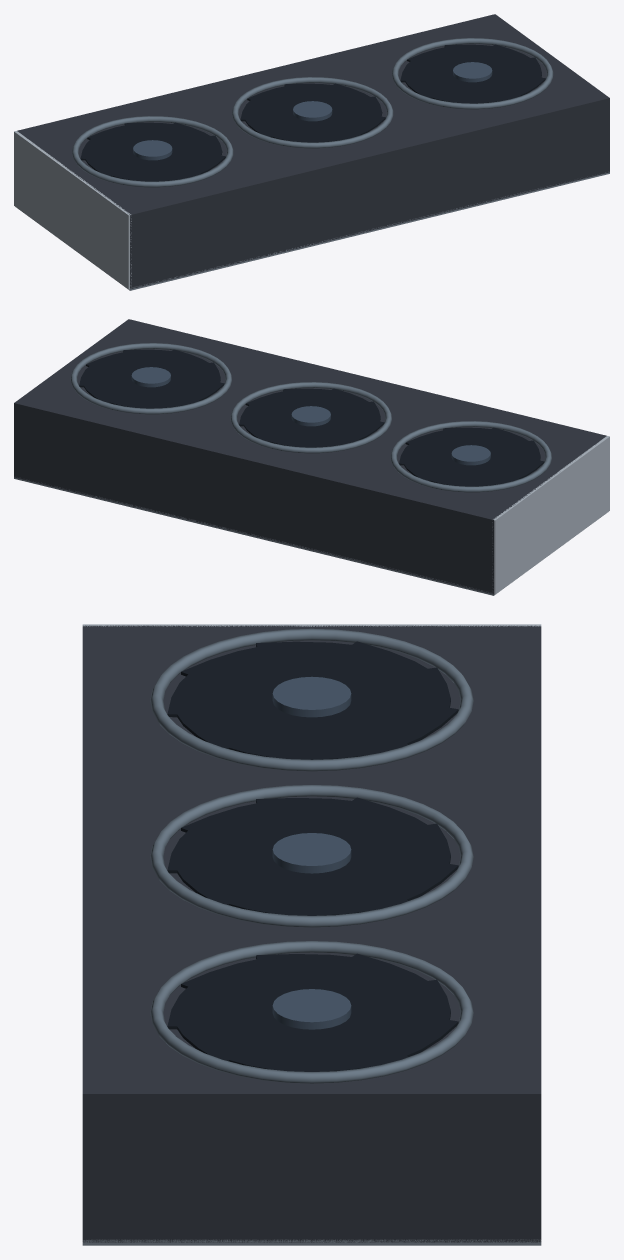
The model's file is retail-msi-geforce-rtx-5070-12g-gaming-trio-oc.glb.
3 renders of one model, top to bottom at view 1: azimuth 30°, elevation 25°; view 2: azimuth 150°, elevation 25°; view 3: azimuth 270°, elevation 25°, orthographic. The views are drawn at different scales.
Parts seen in each view (by area): view 1: Cooler shroud, Cooler blade (×27), Bracket, Fan rim (×3), Fan hub (×3), Backplate; view 2: Cooler shroud, Cooler blade (×27), Bracket, Fan rim (×3), Fan hub (×3), Backplate; view 3: Cooler shroud, Cooler blade (×27), Fan rim (×3), Fan hub (×3), Backplate, Bracket.
Part boxes in pixels (box(x1,y1,x2,y2)): Cooler shroud: box(17, 14, 609, 289); Cooler blade (×27): box(80, 44, 545, 181); Bracket: box(14, 131, 131, 289); Fan rim (×3): box(72, 38, 553, 187); Fan hub (×3): box(133, 62, 492, 160); Backplate: box(23, 171, 609, 290); Cooler shroud: box(14, 319, 606, 594); Cooler blade (×27): box(79, 349, 544, 486); Bracket: box(492, 436, 609, 594); Fan rim (×3): box(70, 343, 551, 492); Fan hub (×3): box(131, 367, 490, 465); Backplate: box(14, 477, 600, 595); Cooler shroud: box(82, 625, 541, 1242); Cooler blade (×27): box(167, 641, 458, 1071); Fan rim (×3): box(150, 628, 473, 1083); Fan hub (×3): box(272, 676, 351, 1029); Backplate: box(82, 1239, 541, 1245); Bracket: box(82, 624, 541, 626).
Size of the model in its own units: 0.339 by 0.0545 by 0.14.
